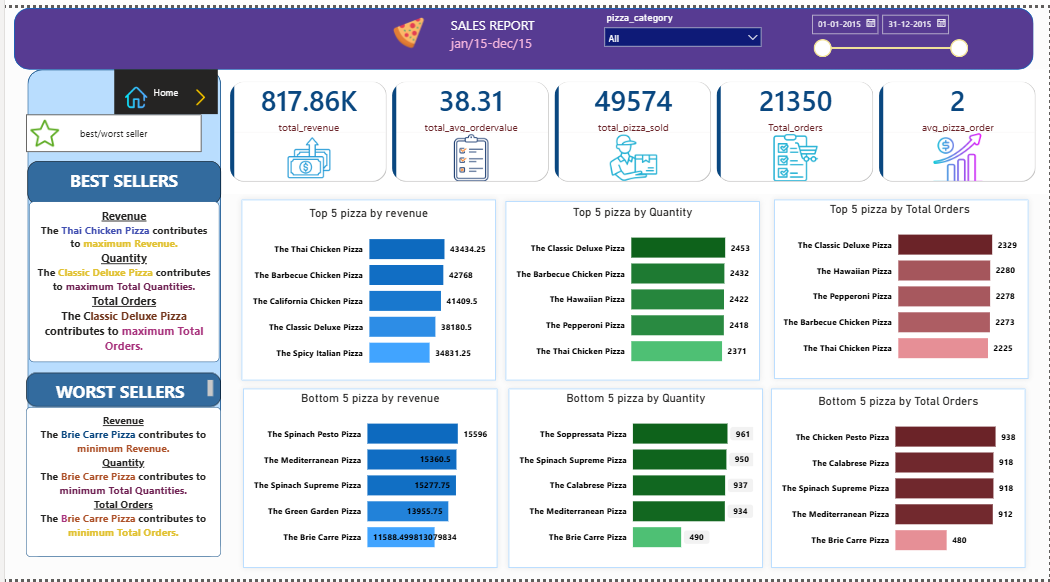

The dashboard page shown, as its layout file describes it:
{"tool":"powerbi","page":{"name":"Home ","canvas":[1500,820],"ordinal":0},"visuals":[{"type":"cardVisual","fields":{"Data":["pizza_sales.total_revenue","pizza_sales.total_avg_ordervalue","pizza_sales.total_pizza_sold","pizza_sales.Total_orders","pizza_sales.avg_pizza_order"]},"box":[306.1,88.5,1193.1,178.9],"z":0},{"type":"shape","box":[12.9,0,1464.2,88.5],"z":1000},{"type":"textbox","box":[349,0,663.5,88.3],"z":2000},{"type":"shape","box":[32.3,88.3,277.9,700.1],"z":3000},{"type":"image","box":[480.4,12.9,198.2,45.2],"z":4000},{"type":"shape","box":[331.7,267.1,381.3,275.7],"z":5000},{"type":"textbox","box":[32.3,219.7,277.9,62.5],"z":6000},{"type":"textbox","box":[34.5,277.9,273.6,230.5],"z":7000},{"type":"textbox","box":[30.2,523.5,280,49.5],"z":8000},{"type":"textbox","box":[30.2,573,280,215.4],"z":9000},{"type":"slicer","fields":{"Values":["pizza_sales.pizza_category"]},"box":[850.9,0,245.6,88.3],"z":10000},{"type":"slicer","fields":{"Values":["pizza_sales.order_date"]},"box":[1146,0,245.6,88.3],"z":11000},{"type":"shape","box":[710.9,269.3,381.3,273.6],"z":12000},{"type":"shape","box":[1096.5,267.1,381.3,273.6],"z":13000},{"type":"shape","box":[1092.2,538.5,381.3,273.6],"z":14000},{"type":"shape","box":[715.2,538.5,381.3,273.6],"z":15000},{"type":"shape","box":[333.9,538.5,381.3,273.6],"z":16000},{"type":"barChart","title":" Top 5 pizza by revenue","fields":{"Category":["pizza_sales.pizza_name"],"Y":["pizza_sales.total_revenue"]},"box":[349,284.3,346.8,245.6],"z":17000},{"type":"barChart","title":" Bottom 5 pizza by revenue","fields":{"Category":["pizza_sales.pizza_name"],"Y":["pizza_sales.total_revenue"]},"box":[351.1,549.3,346.8,245.6],"z":18000},{"type":"barChart","title":" Bottom 5 pizza by Quantity","fields":{"Category":["pizza_sales.pizza_name"],"Y":["pizza_sales.total_pizza_sold"]},"box":[732.4,549.3,346.8,245.6],"z":19000},{"type":"barChart","title":" Top 5 pizza by Quantity","fields":{"Category":["pizza_sales.pizza_name"],"Y":["pizza_sales.total_pizza_sold"]},"box":[728.1,282.2,346.8,245.6],"z":20000},{"type":"barChart","title":" Bottom 5 pizza by Total Orders","fields":{"Category":["pizza_sales.pizza_name"],"Y":["pizza_sales.Total_orders"]},"box":[1109.4,553.6,346.8,245.6],"z":21000},{"type":"barChart","title":" Top 5 pizza by Total Orders","fields":{"Category":["pizza_sales.pizza_name"],"Y":["pizza_sales.Total_orders"]},"box":[1111.5,277.9,346.8,245.6],"z":22000},{"type":"pageNavigator","box":[30.2,152.9,252,54],"z":23000},{"type":"pageNavigator","box":[157.3,88.3,148.6,64.6],"z":24000},{"type":"image","box":[237,116.3,88.3,23.7],"z":25000},{"type":"image","box":[172.3,88.3,32.3,79.7],"z":26000},{"type":"image","box":[34.5,159.4,45.2,40.9],"z":27000}]}

Visuals, with their boxes in screenshot pixels (x1, y1, x2, y2), scaled from the page's 1500x820 canvas onto the 1050x582 screenshot:
cardVisual - pizza_sales.total_revenue x pizza_sales.total_avg_ordervalue: region(214, 63, 1049, 190)
shape: region(9, 0, 1034, 63)
textbox: region(244, 0, 709, 63)
shape: region(23, 63, 217, 560)
image: region(336, 9, 475, 41)
shape: region(232, 190, 499, 385)
textbox: region(23, 156, 217, 200)
textbox: region(24, 197, 216, 361)
textbox: region(21, 372, 217, 407)
textbox: region(21, 407, 217, 560)
slicer - pizza_sales.pizza_category: region(596, 0, 768, 63)
slicer - pizza_sales.order_date: region(802, 0, 974, 63)
shape: region(498, 191, 765, 385)
shape: region(768, 190, 1034, 384)
shape: region(765, 382, 1031, 576)
shape: region(501, 382, 768, 576)
shape: region(234, 382, 501, 576)
" Top 5 pizza by revenue" barChart: region(244, 202, 487, 376)
" Bottom 5 pizza by revenue" barChart: region(246, 390, 489, 564)
" Bottom 5 pizza by Quantity" barChart: region(513, 390, 755, 564)
" Top 5 pizza by Quantity" barChart: region(510, 200, 752, 375)
" Bottom 5 pizza by Total Orders" barChart: region(777, 393, 1019, 567)
" Top 5 pizza by Total Orders" barChart: region(778, 197, 1021, 372)
pageNavigator: region(21, 109, 198, 147)
pageNavigator: region(110, 63, 214, 109)
image: region(166, 83, 228, 99)
image: region(121, 63, 143, 119)
image: region(24, 113, 56, 142)
